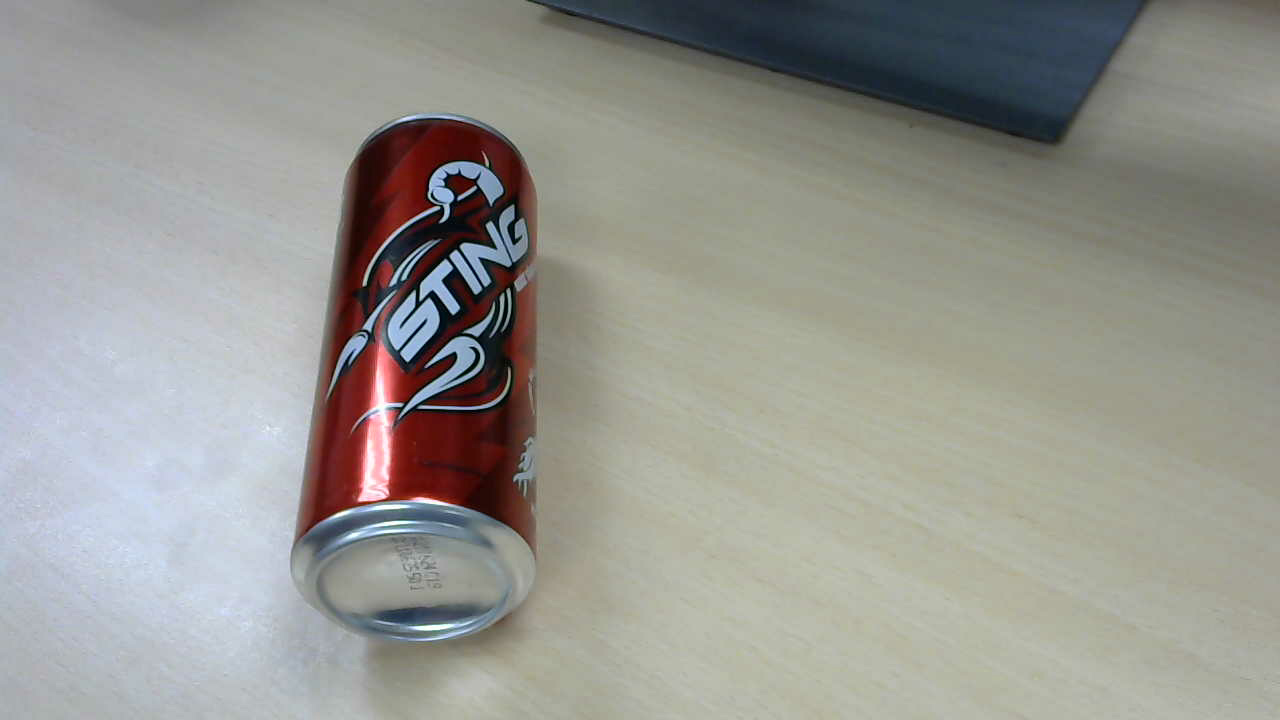Sting: (296, 118, 551, 647)
